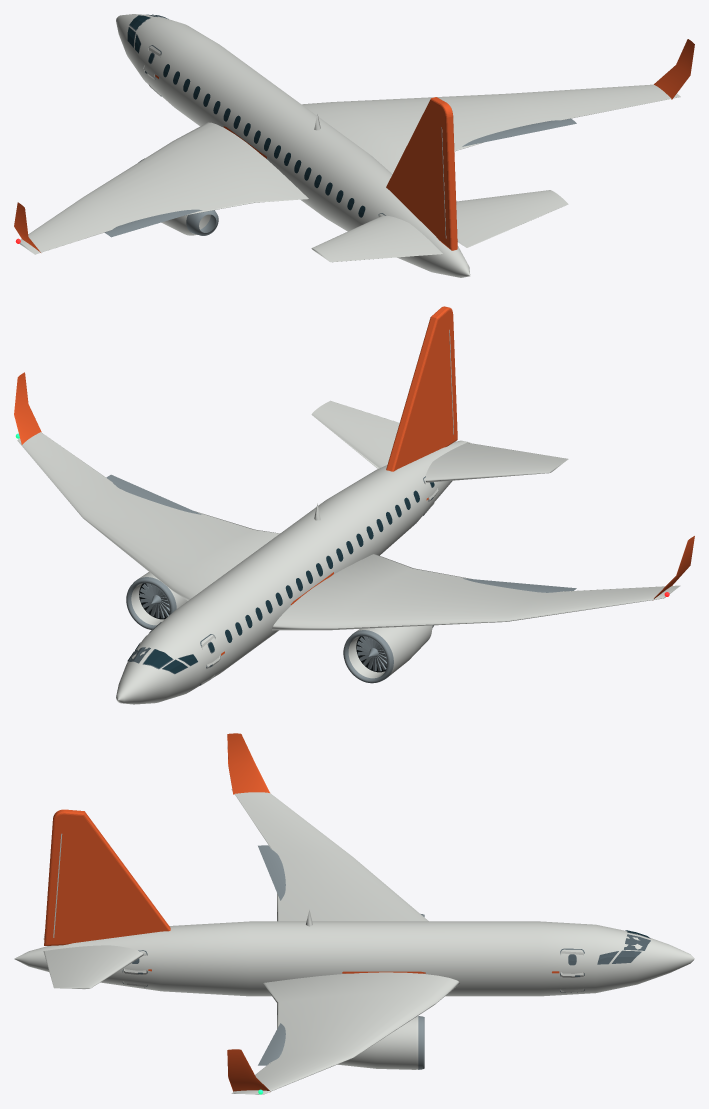
3 renders of one model, top to bottom at view 1: azimuth 30°, elevation 25°; view 2: azimuth 150°, elevation 25°; view 3: azimuth 270°, elevation 25°, orthographic. The views are drawn at different scales.
Parts seen in each view (by area): view 1: Peregrine e9ece7, Peregrine ef5b26, Peregrine 879399, Peregrine 193540; view 2: Peregrine e9ece7, Peregrine ef5b26, Peregrine 879399, Peregrine 193540; view 3: Peregrine e9ece7, Peregrine ef5b26, Peregrine 879399, Peregrine 526169.
Boxes of the visible parts, x1,y1,x2,y2 form: Peregrine e9ece7: (19, 14, 680, 277); Peregrine ef5b26: (14, 39, 694, 252); Peregrine 879399: (104, 118, 576, 237); Peregrine 193540: (127, 14, 365, 217); Peregrine e9ece7: (17, 330, 680, 704); Peregrine ef5b26: (14, 306, 694, 655); Peregrine 879399: (106, 474, 576, 683); Peregrine 193540: (127, 482, 434, 673); Peregrine e9ece7: (14, 789, 694, 1094); Peregrine ef5b26: (44, 733, 559, 1091); Peregrine 879399: (258, 845, 424, 1069); Peregrine 526169: (122, 930, 650, 992).
Bounding box in the file's own units: 25.3 × 7.68 × 23.05.
